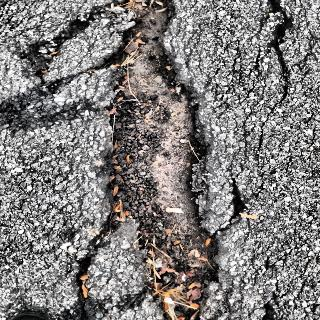pothole: (5, 5, 311, 318)
